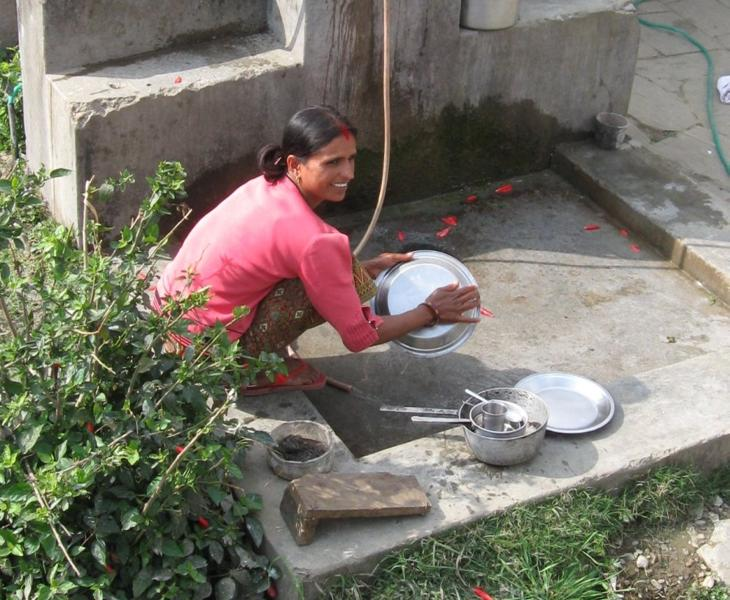person: (149, 108, 478, 394)
